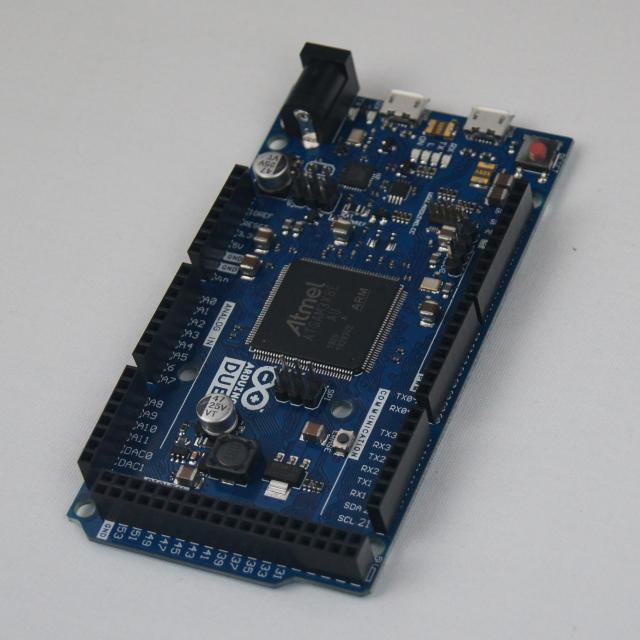Arduino-Due: (70, 44, 571, 594)
